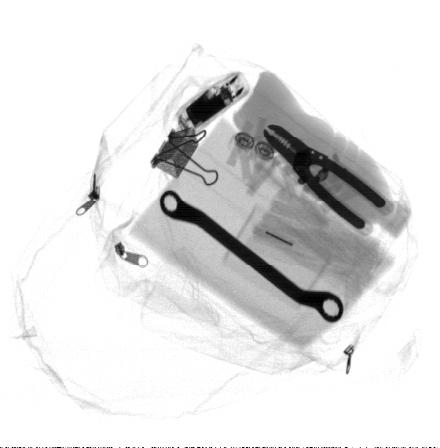Pliers: (263, 123, 395, 235)
Wrench: (160, 189, 343, 322)
